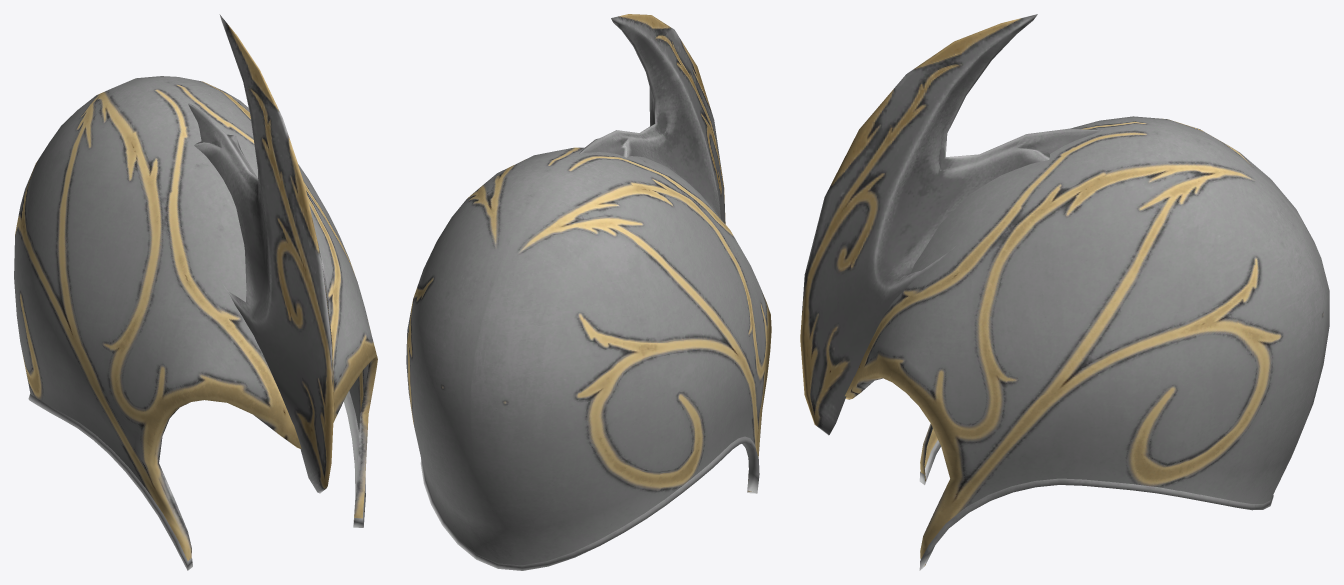
File: rivendell_helmet_archer_tier1_silvergold.fbx
3 renders of one model, left to right at view 1: azimuth 30°, elevation 25°; view 2: azimuth 150°, elevation 25°; view 3: azimuth 270°, elevation 25°, orthographic. The views are drawn at different scales.
Parts seen in each view (by area): view 1: rivendell_helmet_archer_tier1_silvergold.1, rivendell_helmet_archer_tier1_silvergold.0; view 2: rivendell_helmet_archer_tier1_silvergold.1, rivendell_helmet_archer_tier1_silvergold.0; view 3: rivendell_helmet_archer_tier1_silvergold.1, rivendell_helmet_archer_tier1_silvergold.0.
Part boxes in pixels (left/top/right/bottom): rivendell_helmet_archer_tier1_silvergold.1: left=14, top=76, right=377, bottom=570; rivendell_helmet_archer_tier1_silvergold.0: left=188, top=14, right=334, bottom=493; rivendell_helmet_archer_tier1_silvergold.1: left=406, top=147, right=771, bottom=570; rivendell_helmet_archer_tier1_silvergold.0: left=579, top=14, right=725, bottom=223; rivendell_helmet_archer_tier1_silvergold.1: left=845, top=116, right=1329, bottom=570; rivendell_helmet_archer_tier1_silvergold.0: left=800, top=14, right=1102, bottom=435.
Size of the model in its own units: 0.1912 by 0.3005 by 0.321.
Materials: 2 (2 with a texture image).
